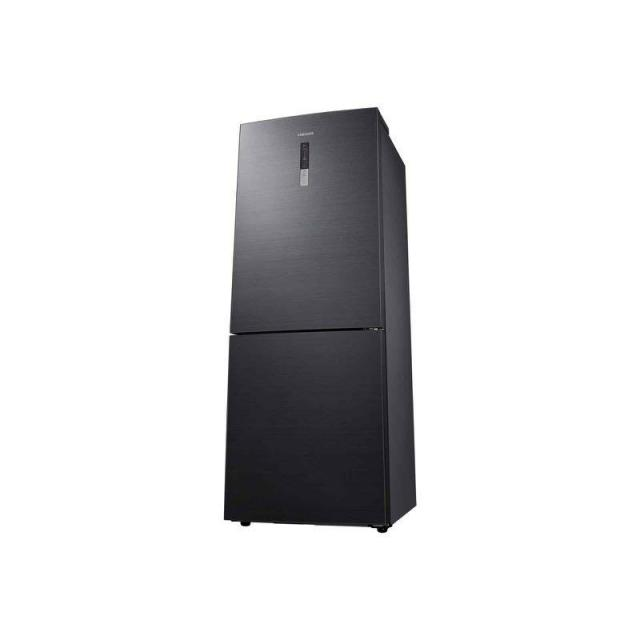refrigerator: (224, 105, 380, 526)
